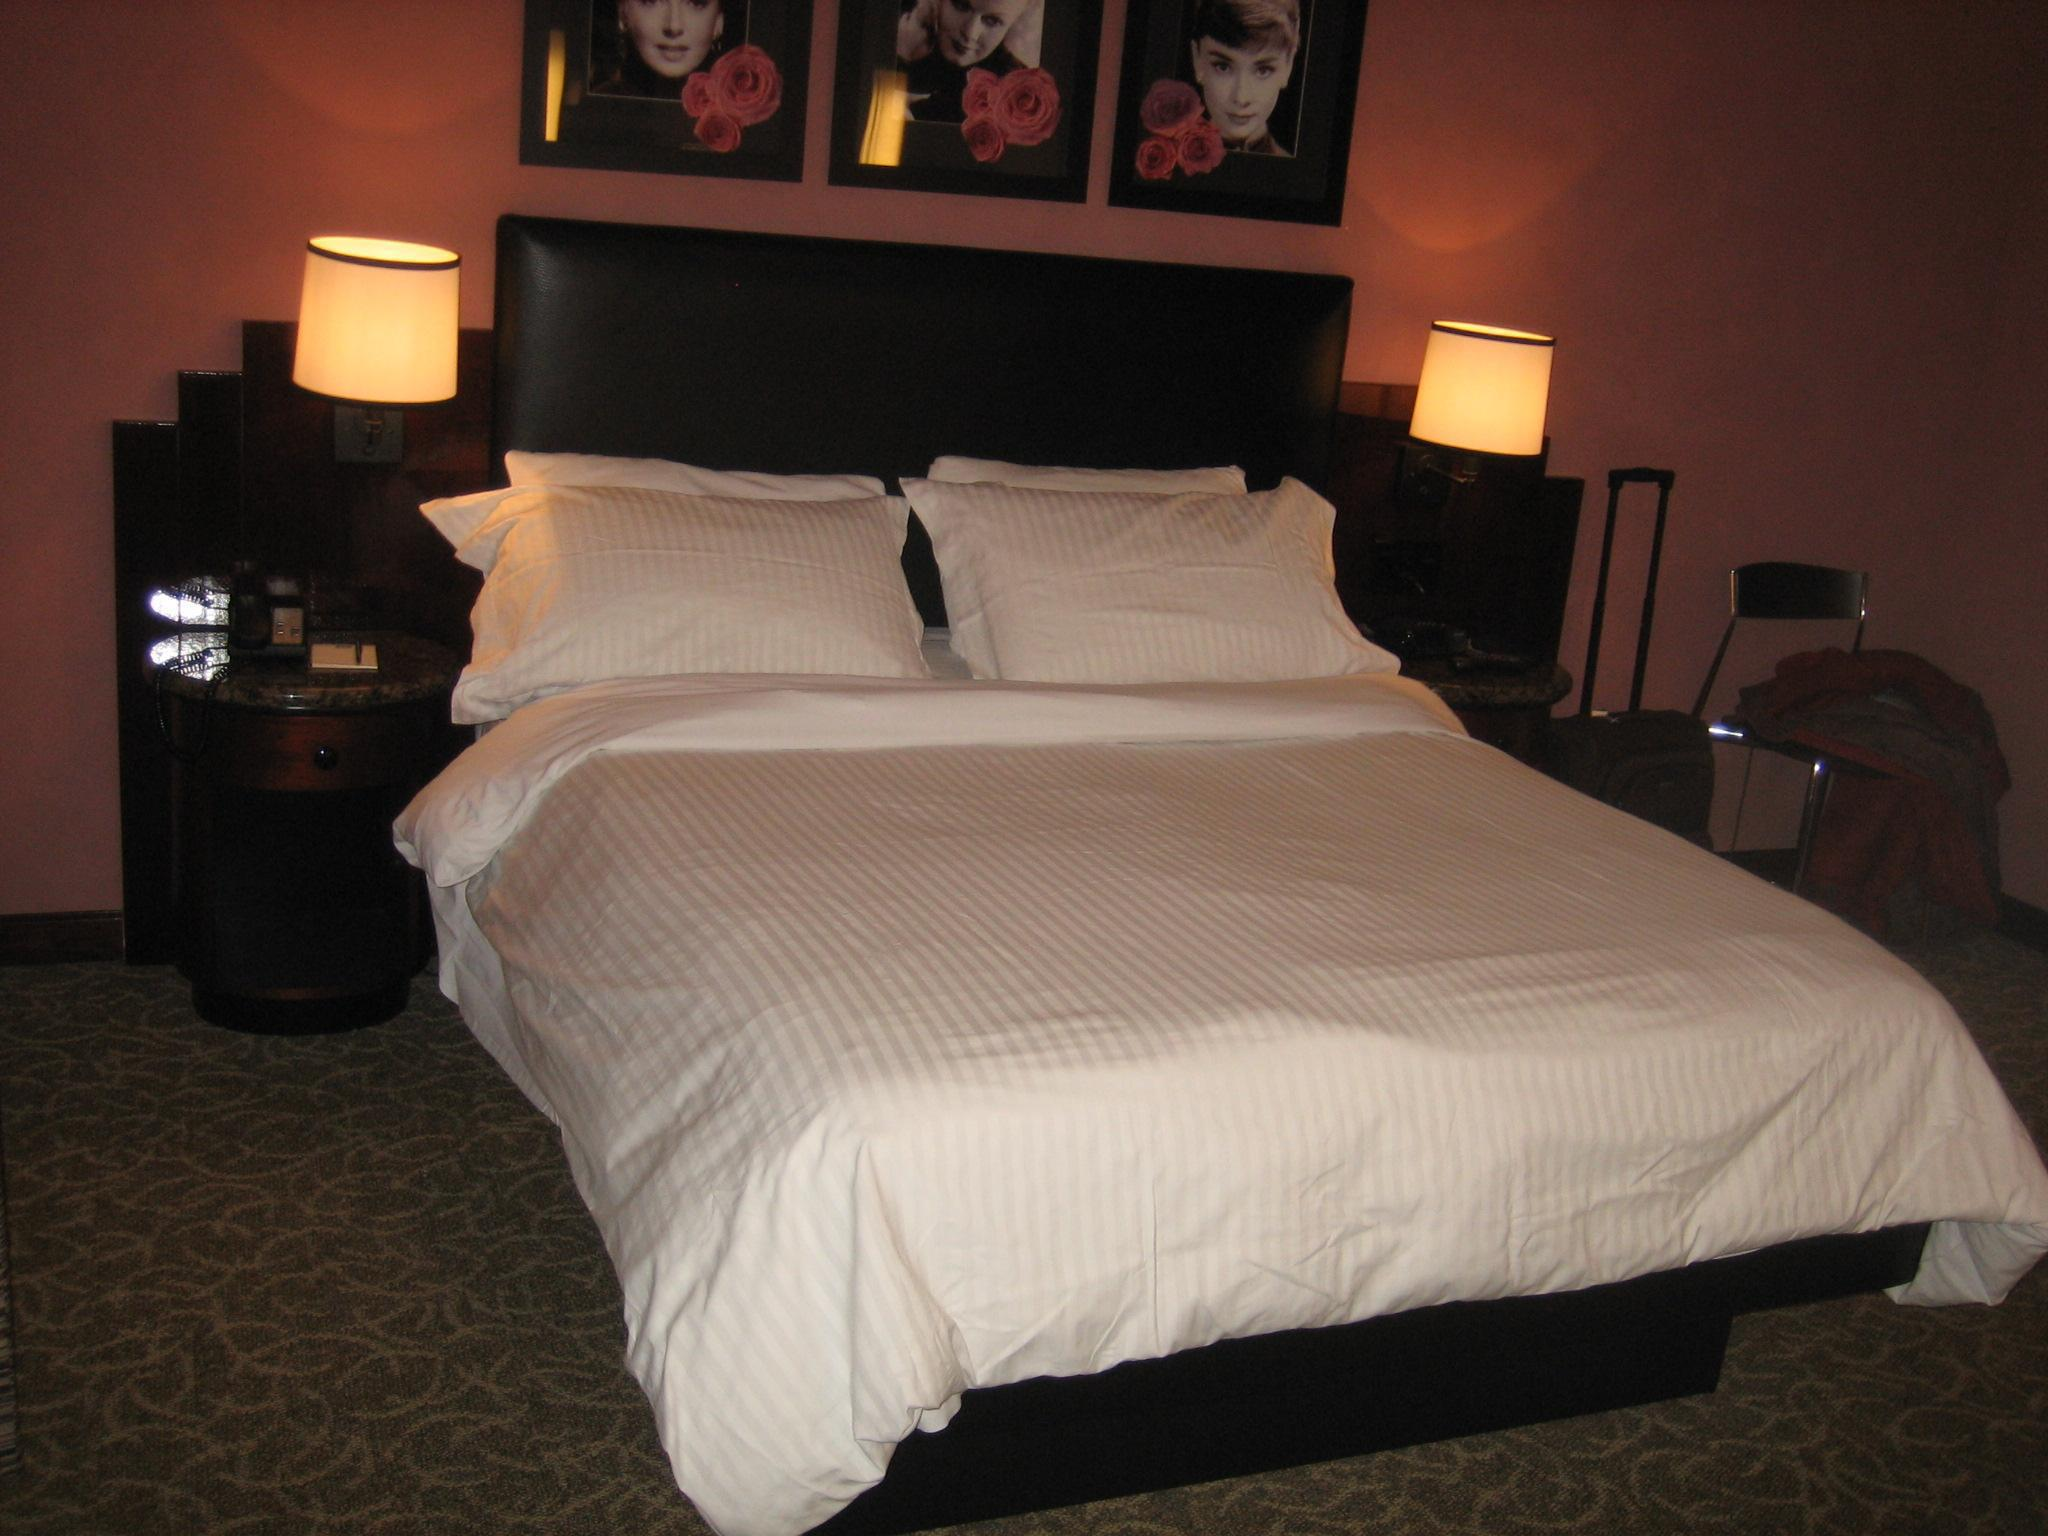Cama: (521, 213, 1967, 1434)
Otro Obstaculo: (1587, 453, 1729, 837)
